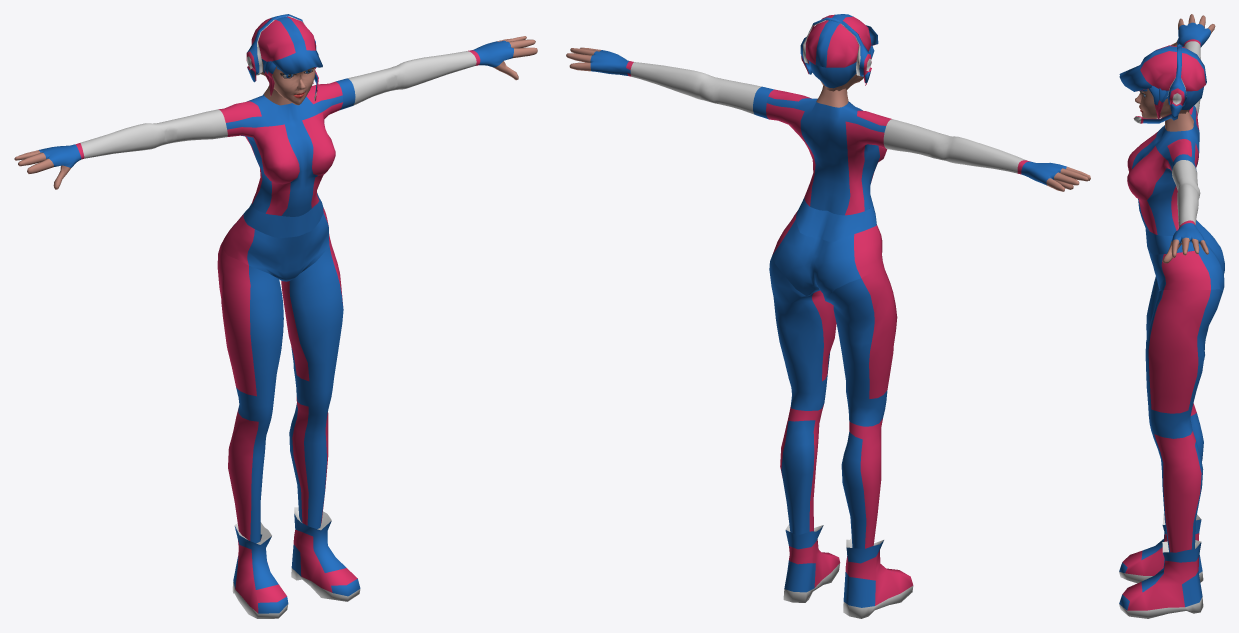
Rendered from BONE_FONE.fbx.
The picture shows the model from 3 angles, left to right: view 1: azimuth 30°, elevation 25°; view 2: azimuth 150°, elevation 25°; view 3: azimuth 270°, elevation 25°; orthographic projection. The views are drawn at different scales.
Parts seen in each view (by area): view 1: CORPO5_corpo.015_Cube.006_Cube.007, CORPO5_corpo.015_Cube.006_Cube.004, CORPO5_corpo.015_Cube.006_Cube.005, bone.001; view 2: CORPO5_corpo.015_Cube.006_Cube.007, CORPO5_corpo.015_Cube.006_Cube.004, CORPO5_corpo.015_Cube.006_Cube.005, bone.001; view 3: CORPO5_corpo.015_Cube.006_Cube.007, CORPO5_corpo.015_Cube.006_Cube.004, bone.001, CORPO5_corpo.015_Cube.006_Cube.005.
Part boxes in pixels (<box>): CORPO5_corpo.015_Cube.006_Cube.007: <box>14,36,537,618</box>; CORPO5_corpo.015_Cube.006_Cube.004: <box>251,16,322,95</box>; CORPO5_corpo.015_Cube.006_Cube.005: <box>260,59,315,105</box>; bone.001: <box>246,14,318,101</box>; CORPO5_corpo.015_Cube.006_Cube.007: <box>566,47,1090,618</box>; CORPO5_corpo.015_Cube.006_Cube.004: <box>805,14,878,85</box>; CORPO5_corpo.015_Cube.006_Cube.005: <box>808,60,863,91</box>; bone.001: <box>800,17,871,82</box>; CORPO5_corpo.015_Cube.006_Cube.007: <box>1119,14,1224,618</box>; CORPO5_corpo.015_Cube.006_Cube.004: <box>1119,45,1206,118</box>; bone.001: <box>1133,44,1186,123</box>; CORPO5_corpo.015_Cube.006_Cube.005: <box>1135,86,1204,118</box>.
Bounding box in the file's own units: 190 × 203 × 35.55.
